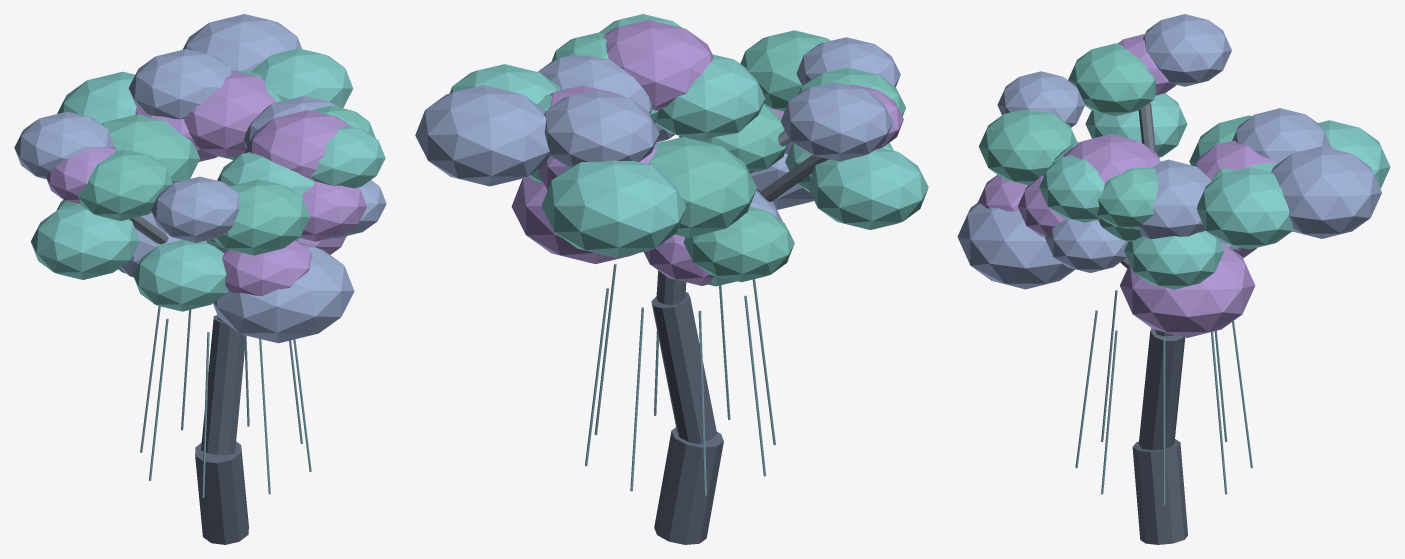
The model's file is hexcore_living_tree_08.glb.
3 views of the same model, side by side, from view 1: azimuth 30°, elevation 25°; view 2: azimuth 150°, elevation 25°; view 3: azimuth 270°, elevation 25° (orthographic). The views are drawn at different scales.
Parts seen in each view (by area): view 1: world; view 2: world; view 3: world.
Part boxes in pixels (bbox=[...]): world: bbox=[14, 14, 386, 544]; world: bbox=[415, 14, 928, 544]; world: bbox=[957, 14, 1390, 544].
Size of the model in its own units: 21.96 by 25.56 by 22.48.
